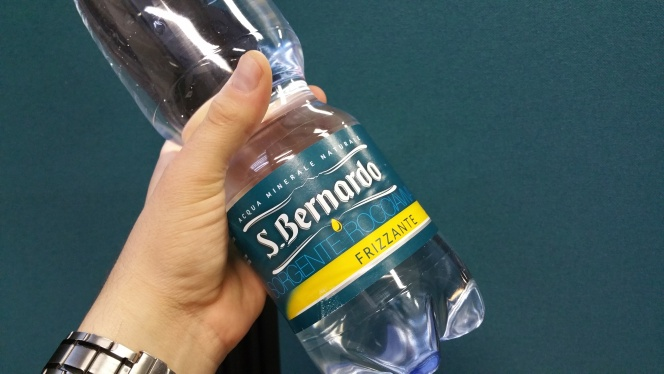bottle: (71, 1, 489, 374)
